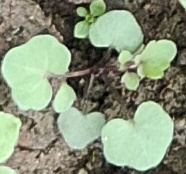马蹄金: (74, 3, 173, 90), (5, 35, 58, 113), (108, 107, 166, 164), (60, 92, 92, 143), (0, 115, 13, 152)
